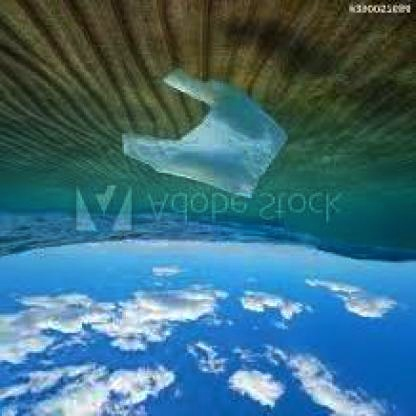pbag: (122, 67, 288, 198)
